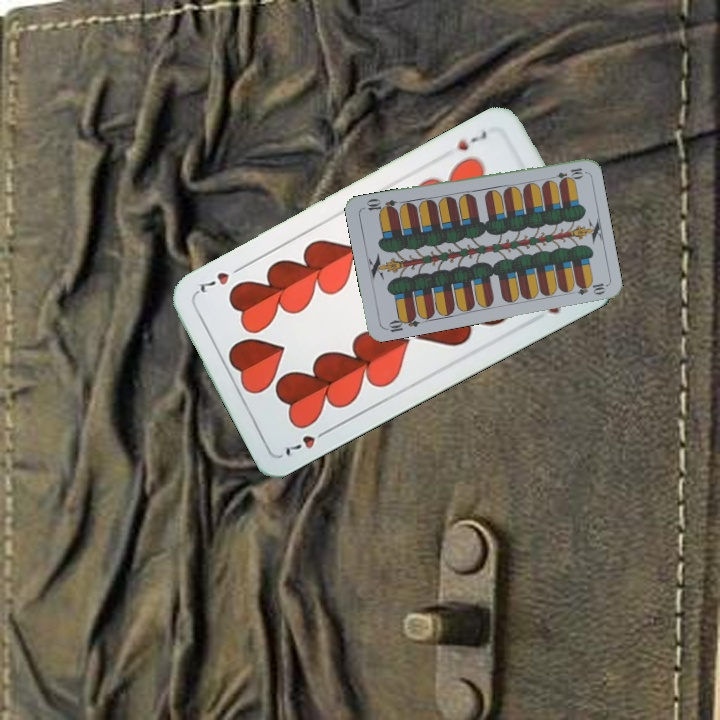E10: (381, 311, 422, 335), (545, 164, 586, 183)
H7: (281, 425, 333, 459), (453, 126, 489, 154)
